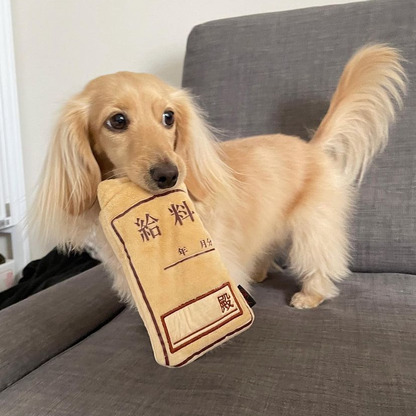dachshund: (44, 68, 396, 323)
